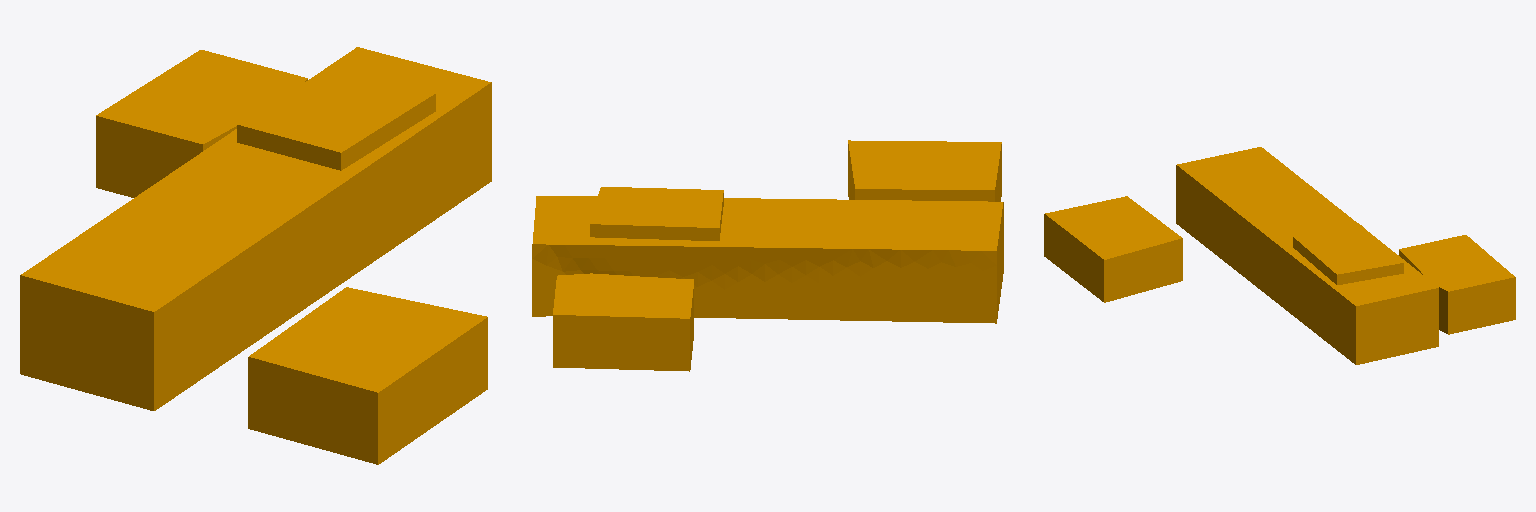
robot.urdf — box:
<?xml version="1.0"?>
<robot name="box">
  <link name="box">
    <inertial>
      <mass value="1"/>
      <!-- Inertia values were calculated to be consistent with the mass and
           geometry size, assuming a uniform density. -->
      <inertia ixx="0.0108" ixy="0" ixz="0" iyy="0.0083" iyz="0" izz="0.0042"/>
    </inertial>
    <visual>
      <origin rpy="0 0 0" xyz="0 0 0"/>
      <geometry>
        <mesh filename="house_mesh.obj"/>
      </geometry>
    </visual>
    <collision>
      <geometry>
        <box size=".1 .2 .3"/>
      </geometry>
    </collision>
  </link>

  <link name="camera">
    <inertial>
      <mass value="1"/>
      <!-- Inertia values were calculated to be consistent with the mass and
           geometry size, assuming a uniform density. -->
      <inertia ixx="0.0108" ixy="0" ixz="0" iyy="0.0083" iyz="0" izz="0.0042"/>
    </inertial>
  </link>

  <joint name="camera_floating_joint" type="floating">
    <parent link="box"/>
    <child link="camera"/>
  </joint>
</robot>

--- What the picture shows (computed from the rendered views, not written in the file) ---
The picture shows the robot from 3 angles, left to right: view 1: azimuth 30°, elevation 25°; view 2: azimuth 150°, elevation 25°; view 3: azimuth 270°, elevation 25°; orthographic projection.
Model box with 2 links and 1 joints (1 floating), rooted at box, posed all joints at 0.
Links seen in each view (by area): view 1: box; view 2: box; view 3: box.
Boxes of the visible links, box(x1,y1,x2,y2) form: box: box(20, 47, 491, 464); box: box(532, 140, 1003, 371); box: box(1044, 147, 1515, 364).
Size in the robot's own frame: 63.83 by 79.53 by 13 metres.
1 mesh visuals loaded from 1 distinct referenced files (1 OBJ).